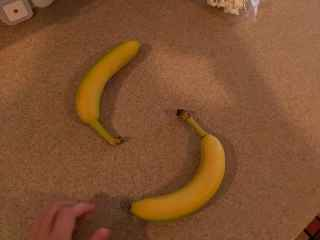banana: (125, 108, 228, 222), (73, 39, 145, 149)
